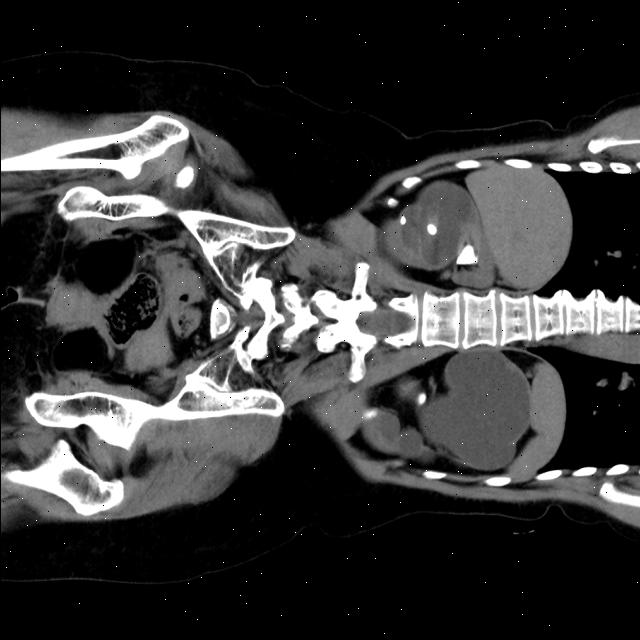kidneystone: (427, 224, 436, 235), (418, 392, 426, 404), (399, 215, 405, 223)
